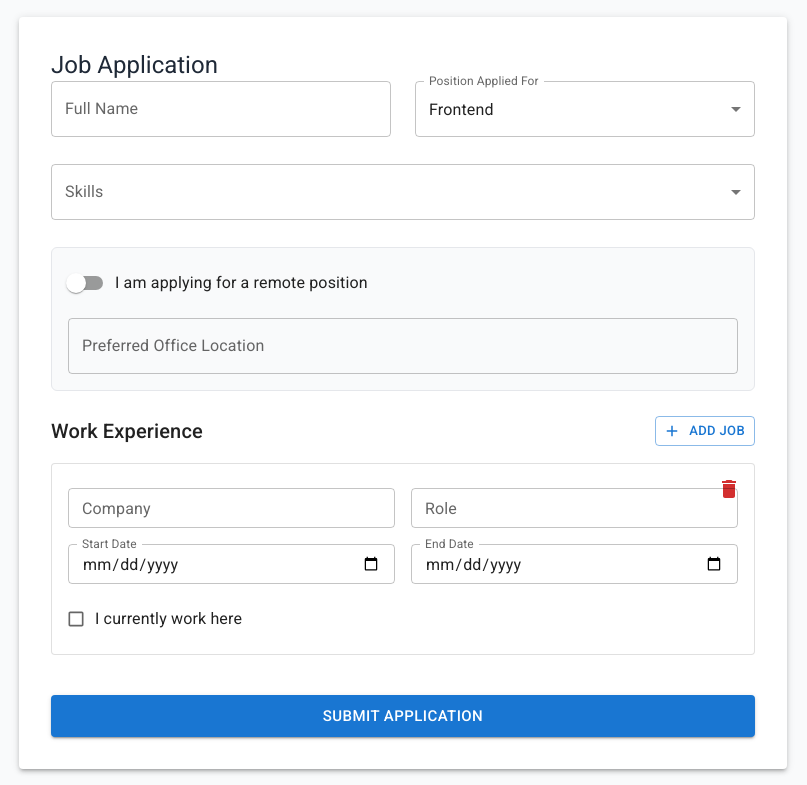
Scenario: JobApplicationForm › should validate required fields
Note: Click submit empty
Click the button "Submit Application": x=403, y=716 [51,695,755,737]
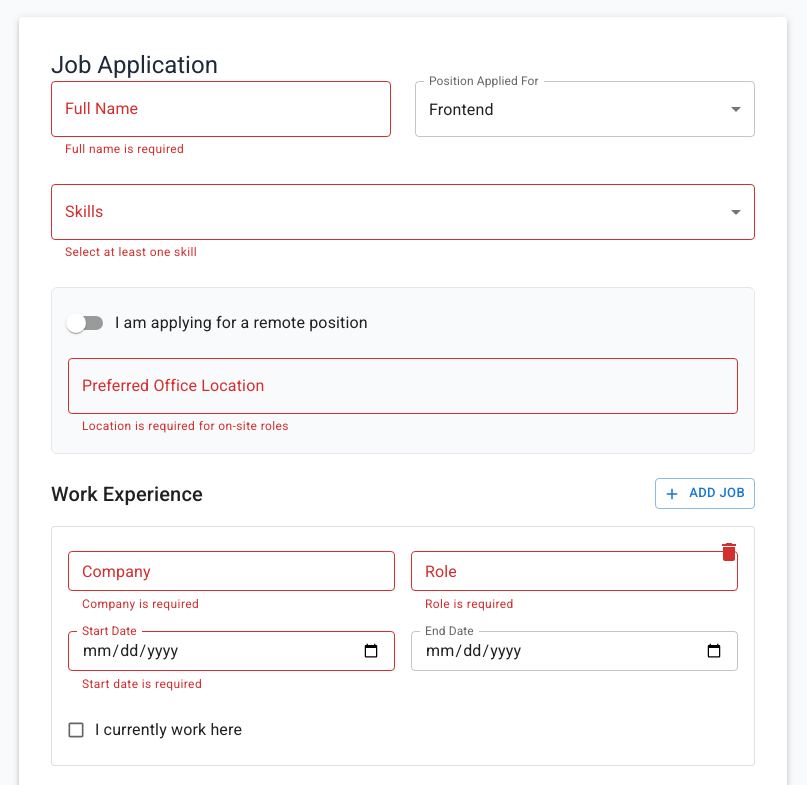
Expected: the text "Full name is required" is shown, [65,142,184,156]
Expected: the text "Select at least one skill" is shown, [65,245,197,259]
Expected: the text "Company is required" is shown, [82,597,199,611]
